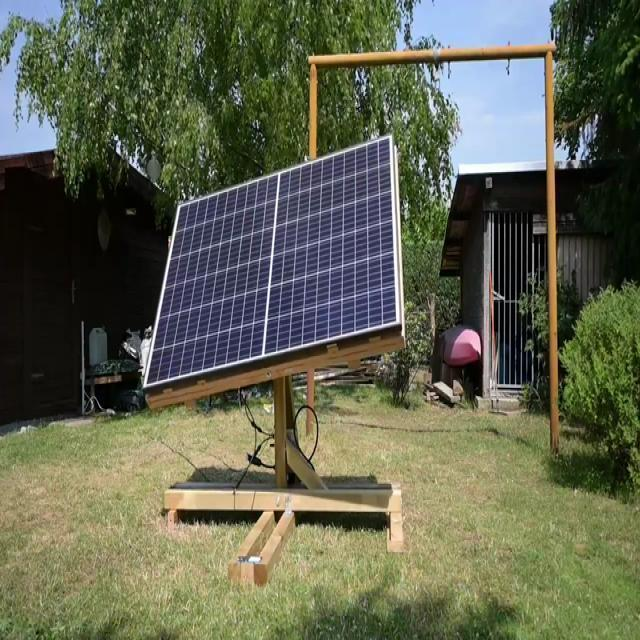Normal Solar Panel: (147, 138, 401, 387)
